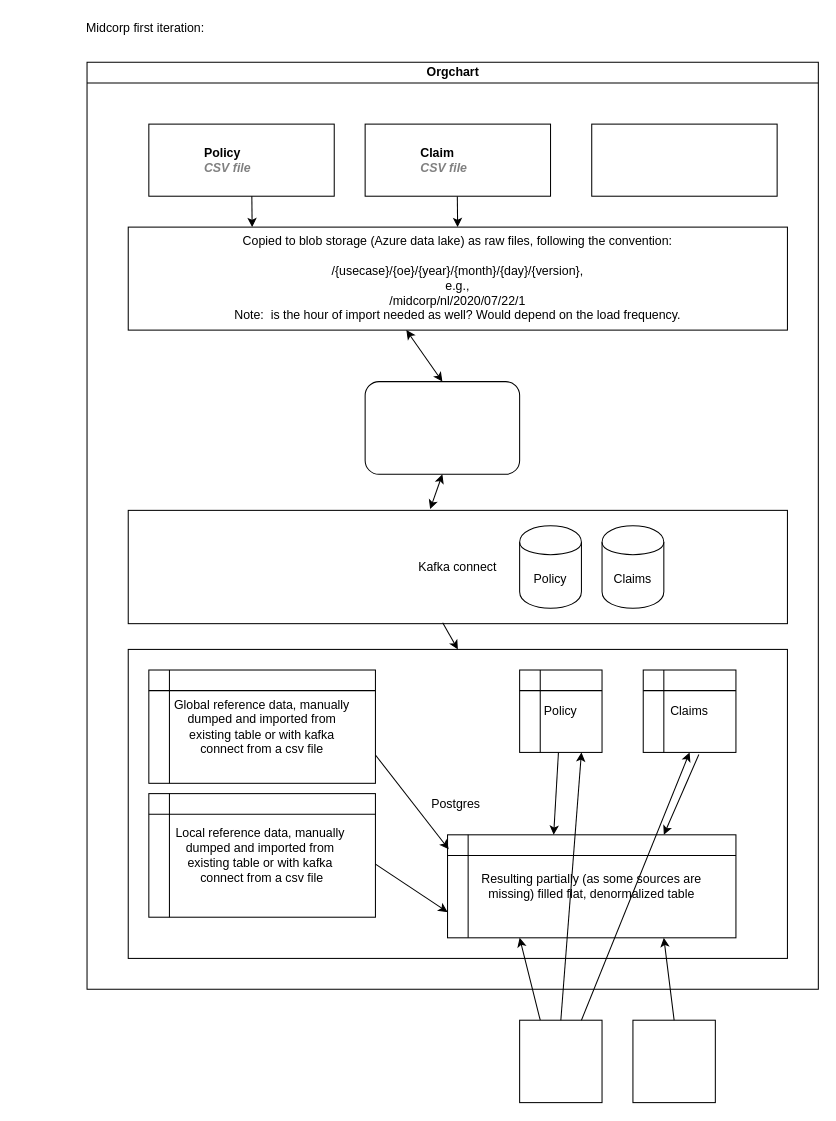
Some shapes in this 836 by 1121 pixel diagram are drawn without their labels. The centre of each missing label's shape, as x and y in pixels:
"Jupyter notebook, or other client" belongs at (x=442, y=427).
"Microstrategy dashboards" belongs at (x=673, y=1061).
"Other 5 files..., like Party CSV file" belongs at (x=684, y=159).
"Talend data quality checks" belongs at (x=560, y=1061).
